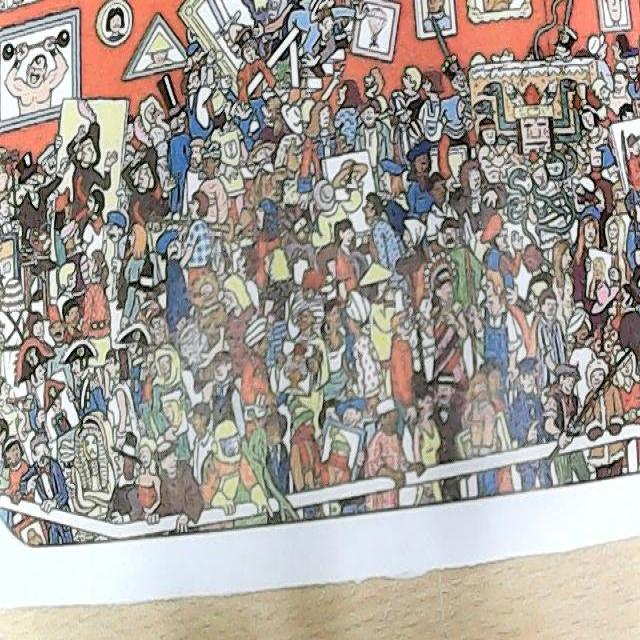waldo: (141, 304, 168, 348)
